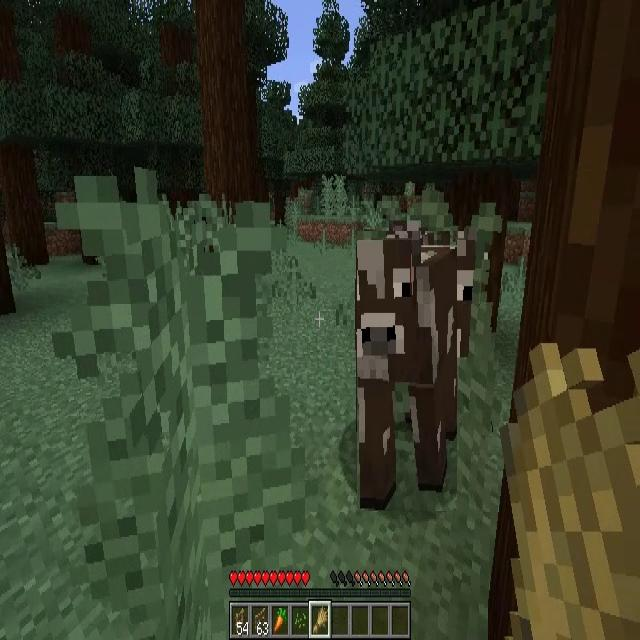cow: (357, 231, 457, 511)
